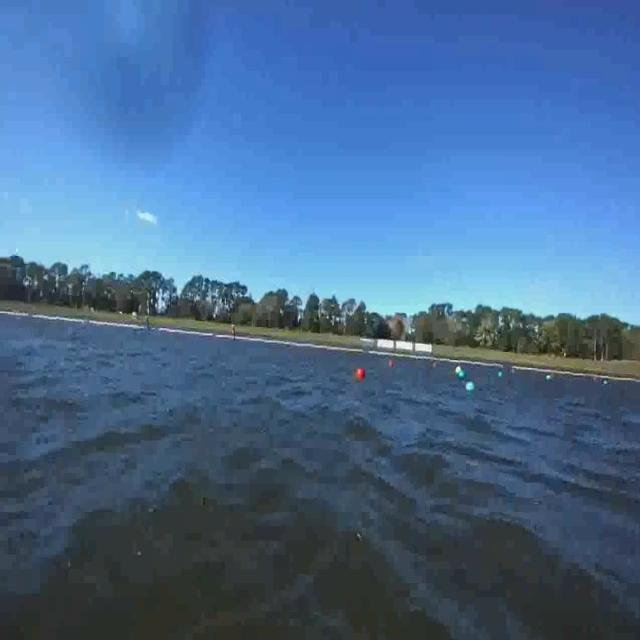green-buoy: (467, 379, 478, 391), (465, 381, 475, 393), (456, 367, 465, 376), (546, 374, 555, 380), (544, 376, 552, 382)
red-buoy: (357, 366, 365, 379)
red-column-buoy: (387, 358, 392, 368)
